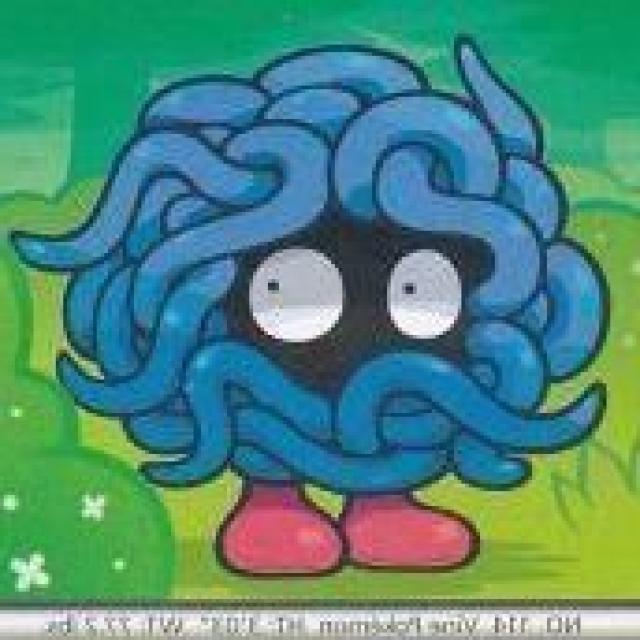Tangela: (63, 78, 582, 576)
